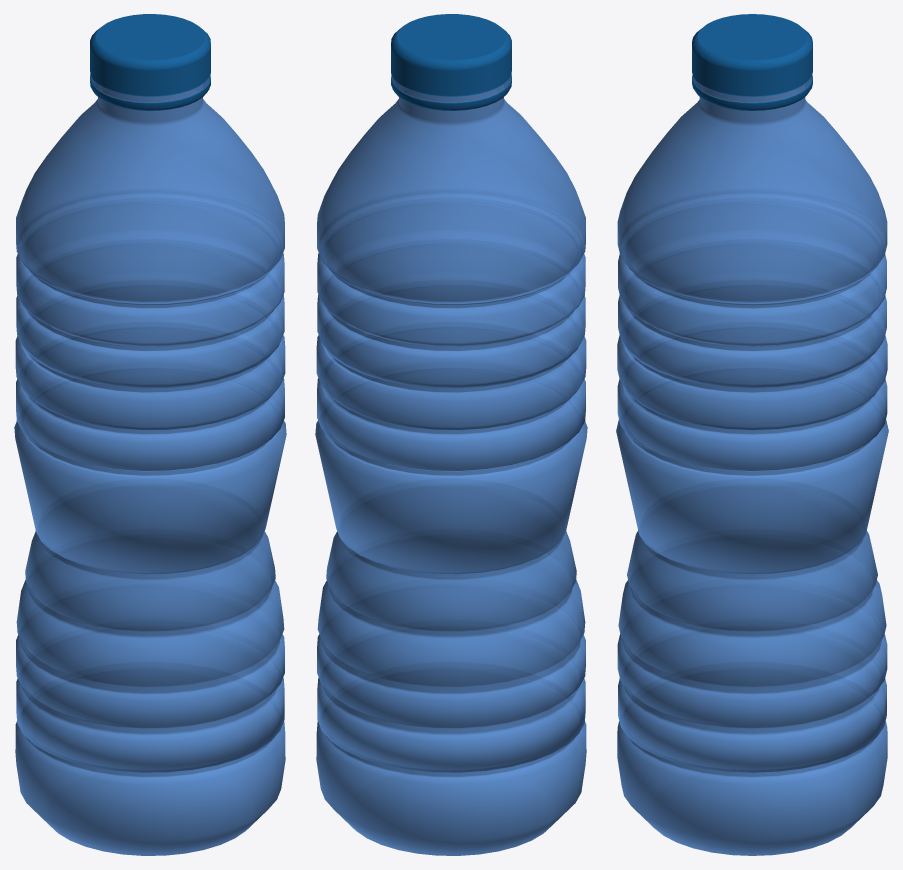
The model's file is plastic_bottle.dae.
The picture shows the model from 3 angles, left to right: view 1: azimuth 30°, elevation 25°; view 2: azimuth 150°, elevation 25°; view 3: azimuth 270°, elevation 25°; orthographic projection.
Visible parts, largest first — view 1: Plastic bottle; view 2: Plastic bottle; view 3: Plastic bottle.
Boxes of the visible parts, x1=… form: Plastic bottle: x1=14, y1=14, x2=286, y2=855; Plastic bottle: x1=315, y1=14, x2=587, y2=855; Plastic bottle: x1=616, y1=14, x2=888, y2=855.
Bounding box in the file's own units: 0.0735 × 0.0735 × 0.23.
